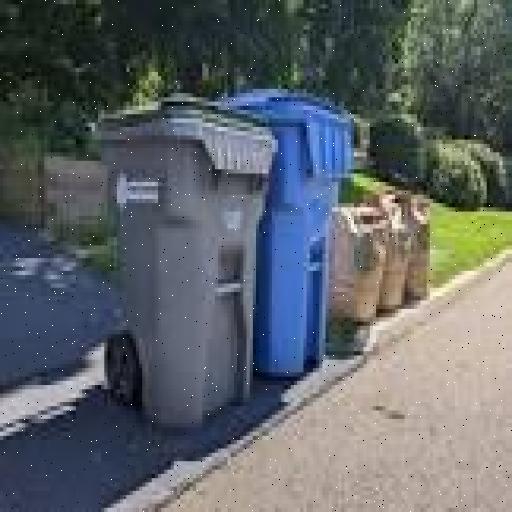poubelle_vide: (80, 94, 276, 432), (218, 85, 362, 382)
